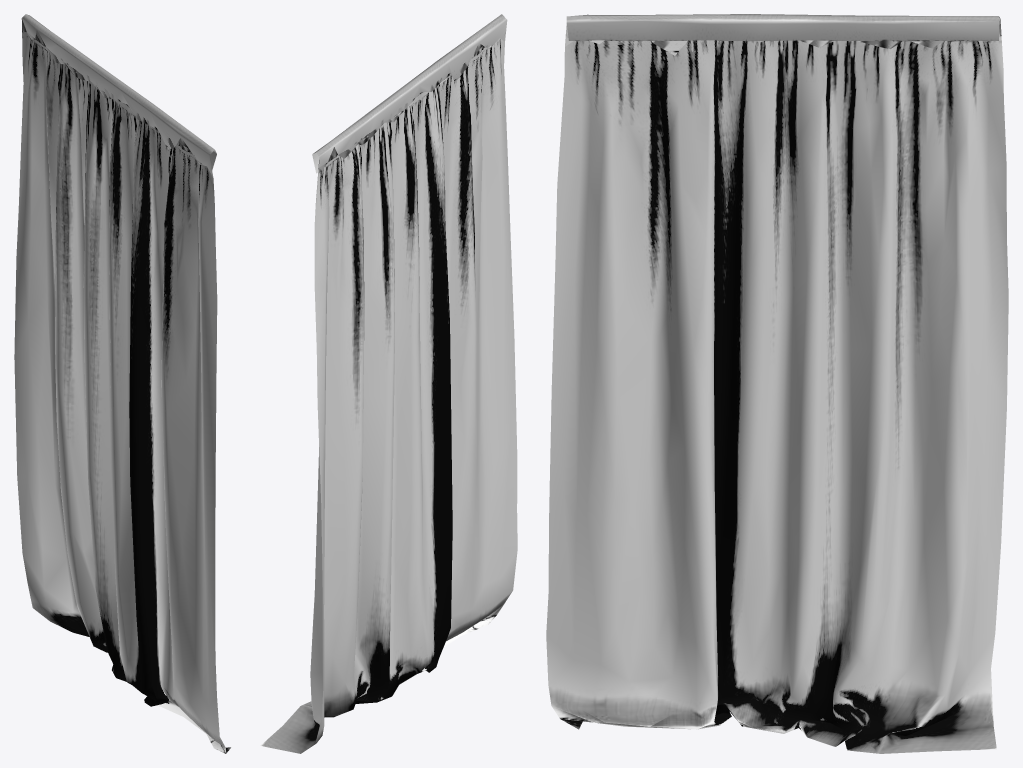
Rendered from Curtains0004.obj.
The picture shows the model from 3 angles, left to right: view 1: azimuth 30°, elevation 25°; view 2: azimuth 150°, elevation 25°; view 3: azimuth 270°, elevation 25°; orthographic projection. The views are drawn at different scales.
Bounding box in the file's own units: 0.354 × 2.53 × 1.51.
Materials: 1 (1 with a texture image).
